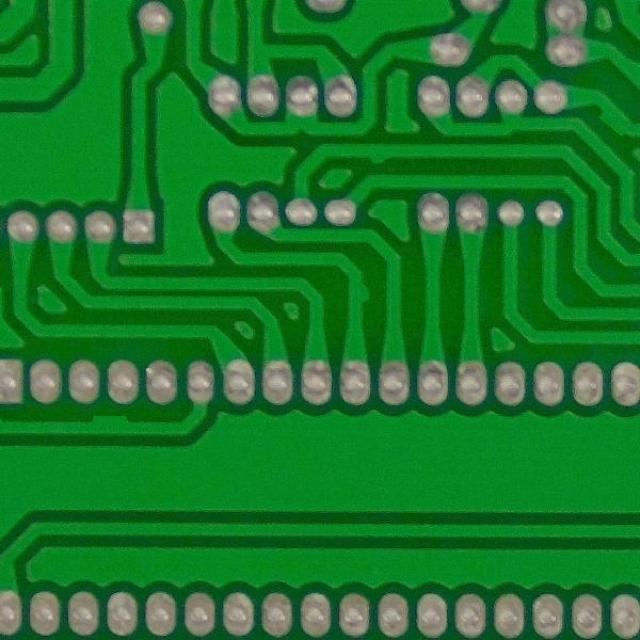spur: (594, 106, 635, 140), (86, 411, 136, 436), (358, 141, 401, 166), (346, 278, 376, 308)
